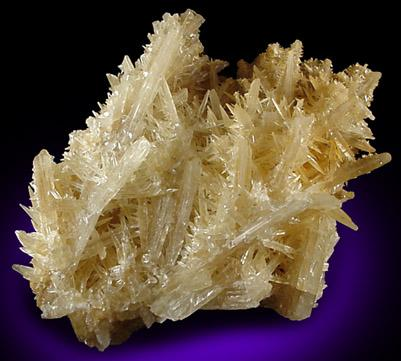calcite: (14, 10, 392, 350)
